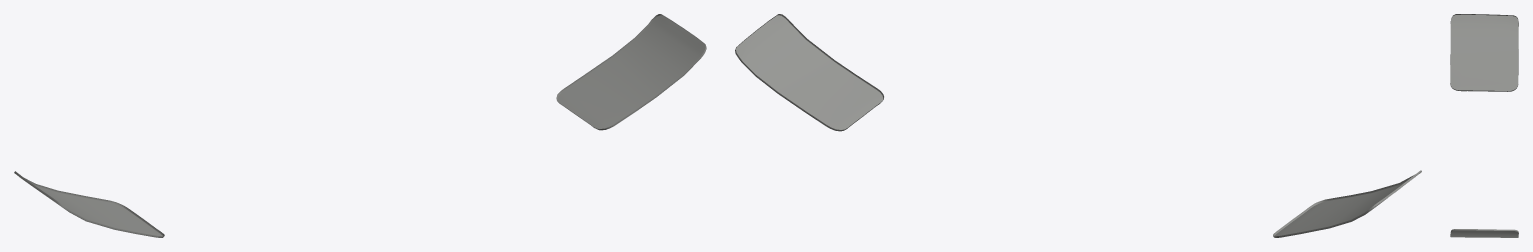
Rendered from no_arm_cap.glb.
3 views of the same model, side by side, from view 1: azimuth 30°, elevation 25°; view 2: azimuth 150°, elevation 25°; view 3: azimuth 270°, elevation 25° (orthographic). The views are drawn at different scales.
Visible parts, largest first — view 1: AFUCH-3-STPL; view 2: AFUCH-3-STPL; view 3: AFUCH-3-STPL.
Boxes of the visible parts, box(x1,y1,x2,y2) form: AFUCH-3-STPL: box(14, 14, 706, 237); AFUCH-3-STPL: box(735, 14, 1421, 237); AFUCH-3-STPL: box(1450, 14, 1518, 237).
Size of the model in its own units: 50.06 by 4.57 by 6.74.
Materials: 1 (1 with a texture image).
